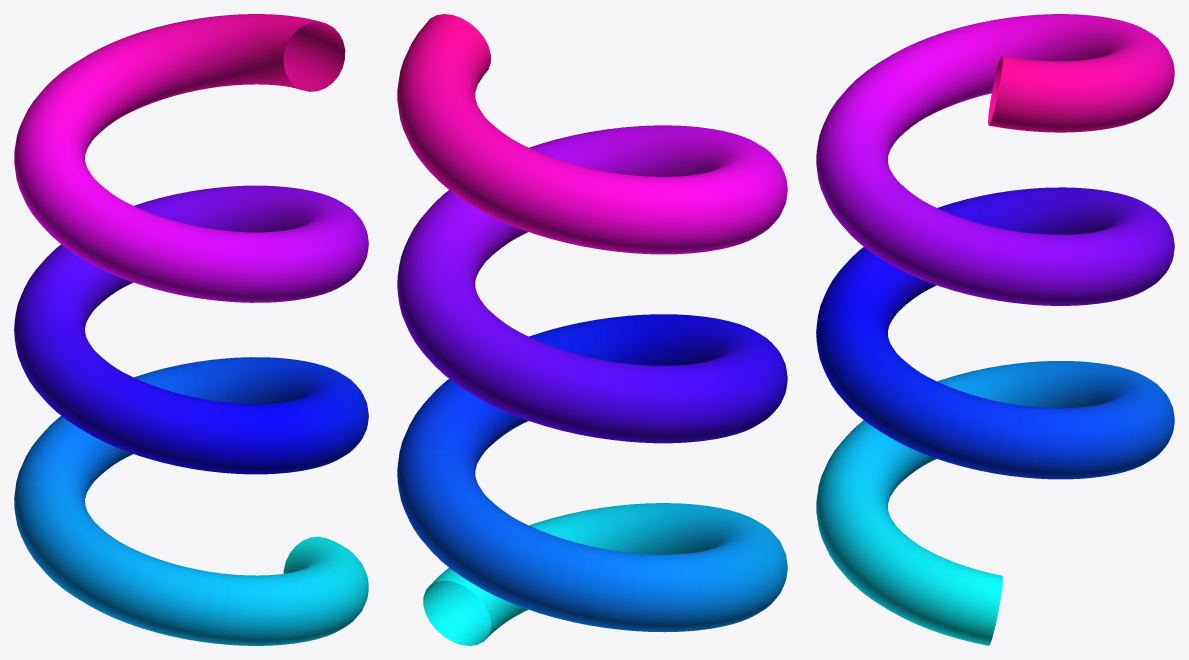
File: gradient_helix.obj
The picture shows the model from 3 angles, left to right: view 1: azimuth 30°, elevation 25°; view 2: azimuth 150°, elevation 25°; view 3: azimuth 270°, elevation 25°; orthographic projection. The views are drawn at different scales.
Bounding box in the file's own units: 5 × 8.98 × 5.
